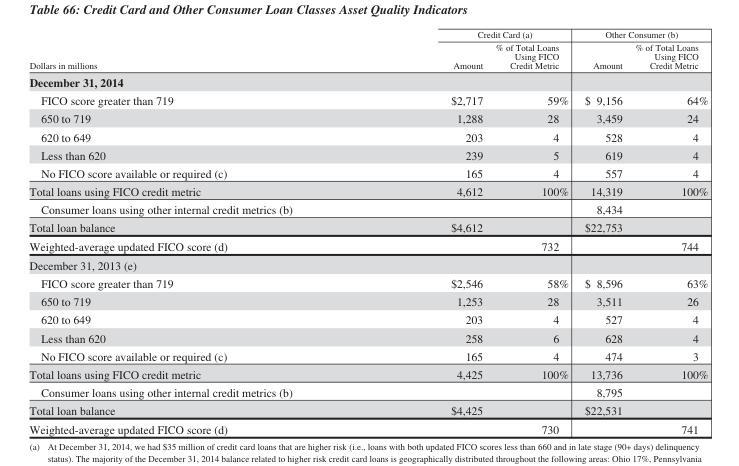table: (28, 29, 707, 435)
table column: (28, 29, 371, 435), (371, 29, 488, 435), (488, 29, 575, 435), (628, 29, 707, 435), (575, 29, 628, 435)
table column header: (28, 29, 707, 72)
table projected row header: (28, 72, 707, 91), (28, 255, 707, 274)
table row: (28, 40, 707, 72), (28, 72, 707, 91), (28, 199, 707, 218), (28, 236, 707, 255), (28, 255, 707, 274), (28, 400, 707, 419), (28, 91, 707, 109), (28, 109, 707, 127), (28, 127, 707, 145), (28, 145, 707, 163), (28, 163, 707, 181), (28, 181, 707, 199), (28, 218, 707, 236), (28, 274, 707, 292), (28, 292, 707, 310), (28, 310, 707, 328), (28, 328, 707, 346), (28, 346, 707, 364), (28, 364, 707, 382), (28, 382, 707, 400), (28, 419, 707, 435), (28, 29, 707, 40)
table spanning cell: (28, 29, 371, 72), (371, 29, 575, 40), (575, 29, 707, 40)
